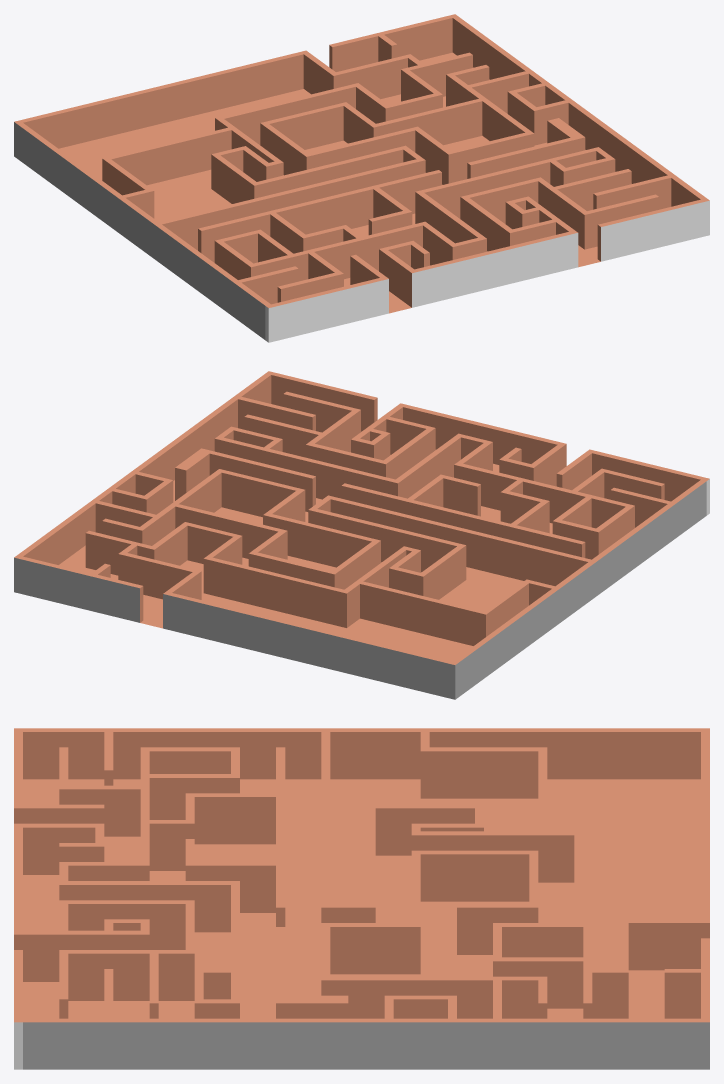
Rendered from LABIRINTO.fbx.
3 views of the same model, one above another, from view 1: azimuth 30°, elevation 25°; view 2: azimuth 150°, elevation 25°; view 3: azimuth 270°, elevation 25° (orthographic). The views are drawn at different scales.
Parts seen in each view (by area): view 1: Plane; view 2: Plane; view 3: Plane.
Boxes of the visible parts, bbox=[...] form: Plane: bbox=[14, 14, 709, 342]; Plane: bbox=[14, 371, 709, 699]; Plane: bbox=[14, 728, 709, 1069].
Bounding box in the file's own units: 4000 × 300 × 4000.
1 material, 1 textured.
